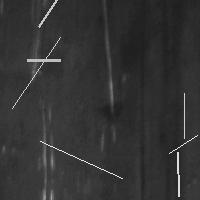scratches: (155, 2, 186, 197), (7, 32, 65, 113), (35, 136, 127, 183), (98, 2, 117, 147), (39, 101, 58, 200), (34, 0, 91, 31), (137, 70, 149, 200), (28, 21, 45, 86), (164, 130, 200, 158), (172, 147, 183, 200), (179, 88, 189, 143), (22, 55, 65, 65)
